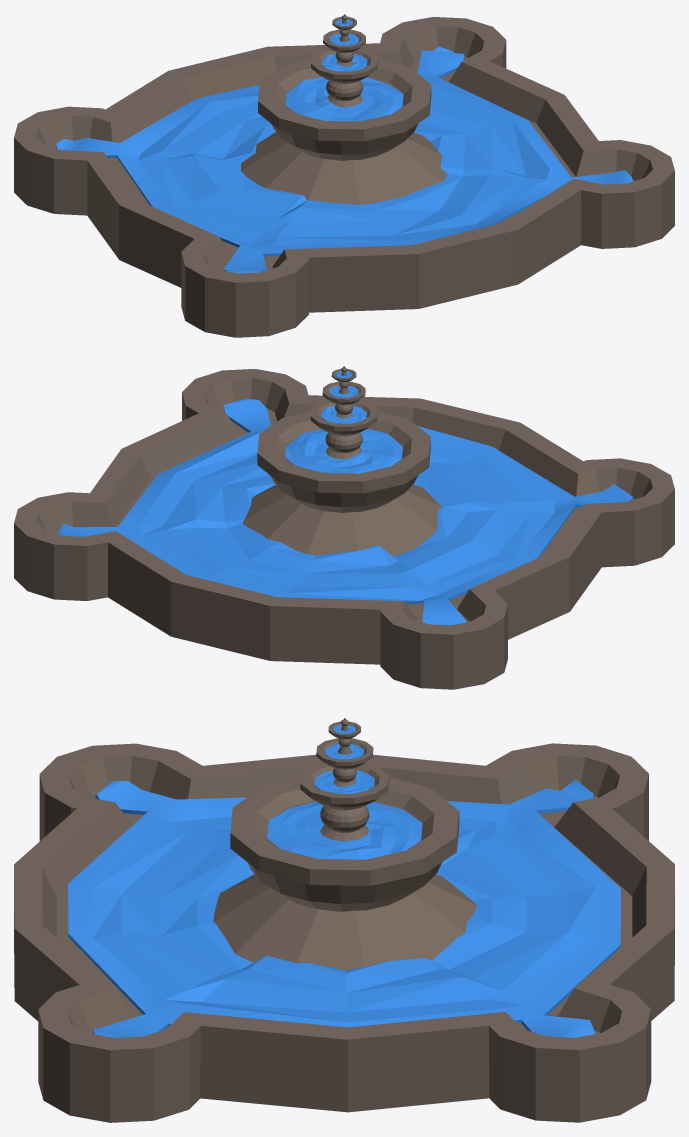
Rendered from fountain.FBX.
3 views of the same model, one above another, from view 1: azimuth 30°, elevation 25°; view 2: azimuth 150°, elevation 25°; view 3: azimuth 270°, elevation 25° (orthographic). The views are drawn at different scales.
Visible parts, largest first — view 1: Cylinder001, Fountain, Cone001, Tube001, Group001, Sphere001, Tube002, Sphere002, Group002; view 2: Cylinder001, Fountain, Cone001, Tube001, Group001, Sphere001, Tube002, Sphere002, Group002; view 3: Cylinder001, Fountain, Cone001, Tube001, Group001, Sphere001, Tube002, Sphere002, Group002, Tube003.
Part boxes in pixels (x1,y1,x2,y2): Cylinder001: (14, 17, 674, 337); Fountain: (56, 46, 632, 273); Cone001: (241, 132, 447, 205); Tube001: (258, 59, 431, 141); Group001: (285, 77, 403, 121); Sphere001: (271, 76, 418, 160); Tube002: (311, 48, 378, 79); Sphere002: (326, 80, 362, 100); Group002: (321, 53, 367, 71); Cylinder001: (14, 369, 674, 689); Fountain: (57, 398, 632, 625); Cone001: (242, 484, 442, 556); Tube001: (257, 411, 430, 493); Group001: (285, 428, 402, 473); Sphere001: (271, 429, 417, 512); Tube002: (310, 400, 377, 431); Sphere002: (325, 432, 362, 453); Group002: (321, 406, 366, 423); Cylinder001: (14, 743, 674, 1122); Fountain: (68, 779, 620, 1037); Cone001: (213, 874, 476, 970); Tube001: (230, 777, 459, 885); Group001: (267, 801, 422, 859); Sphere001: (248, 800, 442, 911); Tube002: (300, 763, 389, 803); Sphere002: (320, 805, 369, 832); Group002: (314, 770, 374, 793); Tube003: (316, 738, 373, 765).
Size of the model in its own units: 42.63 by 16.28 by 38.81.
